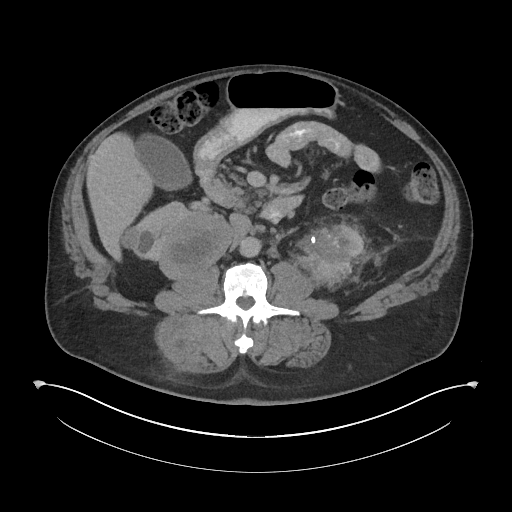Lesion: (159, 212, 232, 279)
